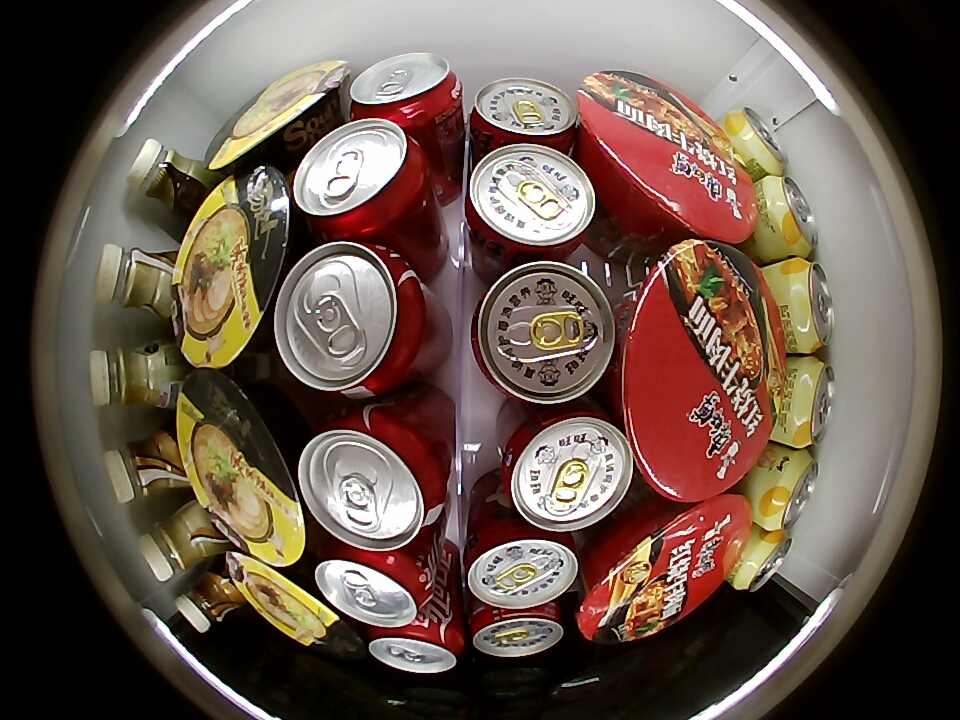hongshaoniurou: (620, 241, 780, 501), (577, 71, 758, 243), (577, 494, 752, 643)
kafei: (126, 138, 213, 219), (137, 504, 222, 583), (103, 428, 190, 504), (95, 243, 179, 319), (88, 342, 181, 410), (174, 562, 245, 634)
kele: (274, 240, 428, 397), (298, 407, 447, 551), (293, 118, 429, 239), (315, 545, 433, 627), (349, 52, 461, 126), (366, 619, 464, 674)
mangguoxiaolao: (778, 258, 834, 353), (756, 449, 820, 531), (780, 356, 835, 448), (759, 175, 819, 257), (725, 106, 787, 178), (729, 528, 792, 594)
tangdaren2: (175, 369, 308, 567), (172, 164, 296, 368), (205, 58, 349, 174), (228, 551, 364, 658)
wangzainiunai: (470, 260, 617, 405), (498, 402, 635, 530), (464, 142, 596, 264), (463, 513, 579, 608), (470, 76, 578, 156), (468, 598, 565, 659)
